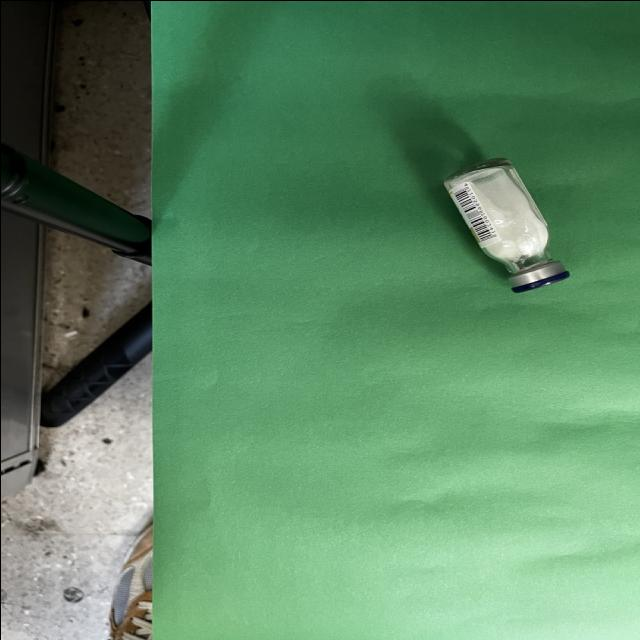Vials: (443, 158, 568, 292)
